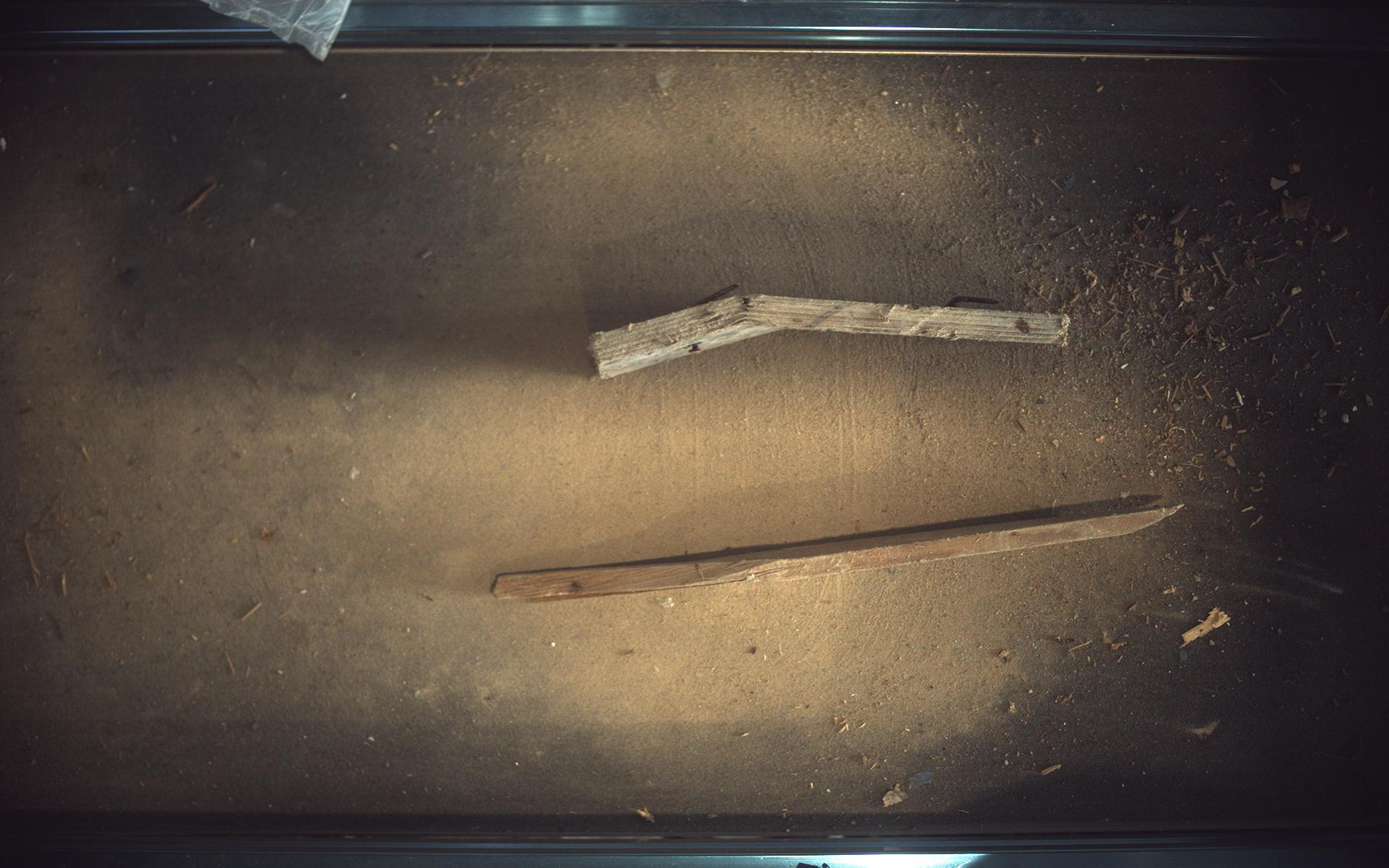wood: (492, 501, 1185, 602), (590, 284, 1072, 378)
